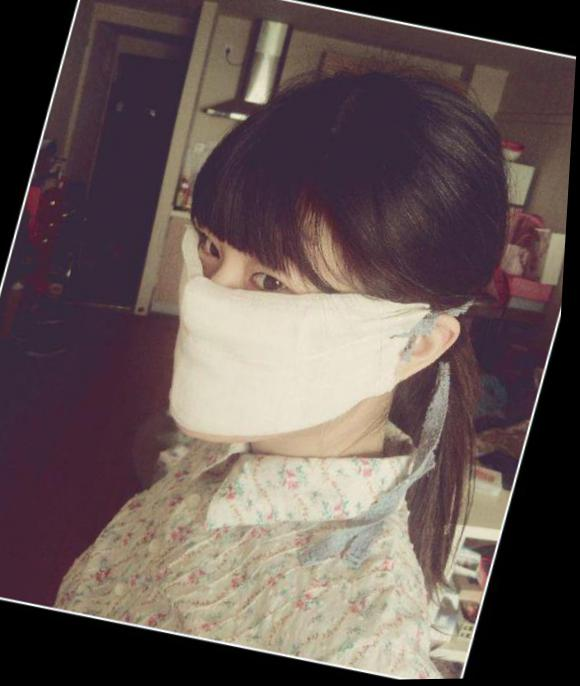WRONG: (137, 196, 425, 480)
